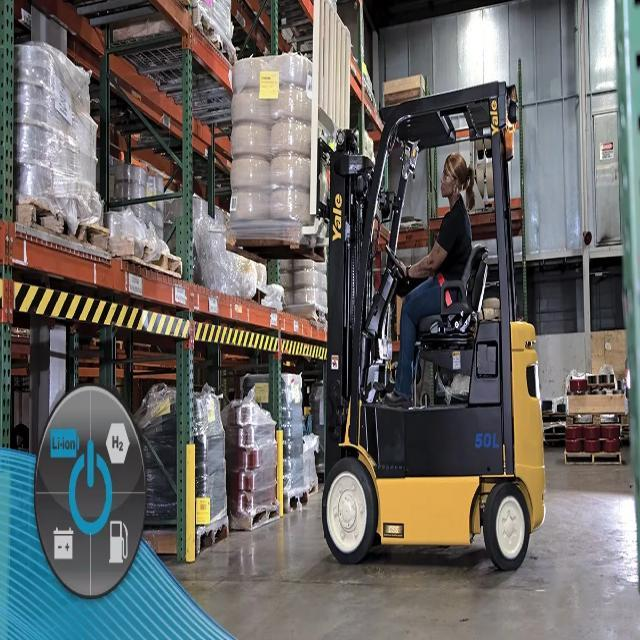driver: (390, 150, 480, 410)
forklift: (314, 62, 544, 592)
